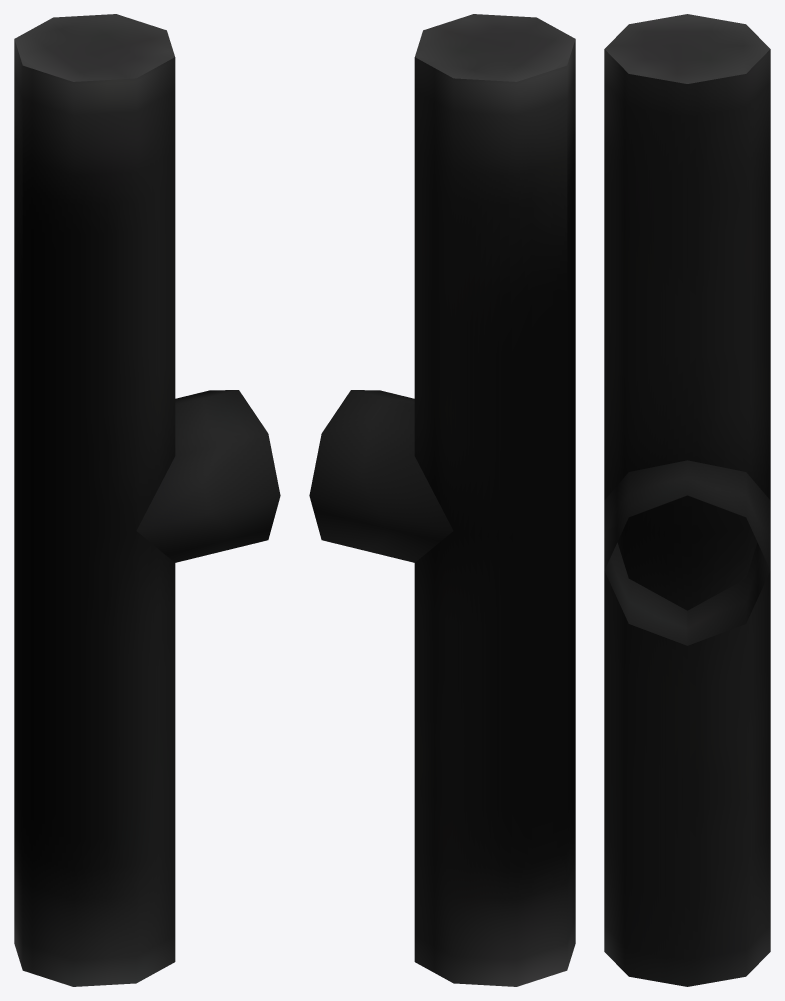
File: ye8_rod.obj
3 views of the same model, side by side, from view 1: azimuth 30°, elevation 25°; view 2: azimuth 150°, elevation 25°; view 3: azimuth 270°, elevation 25° (orthographic).
Parts seen in each view (by area): view 1: 1; view 2: 1; view 3: 1.
Part boxes in pixels (bbox=[...]): 1: bbox=[14, 14, 280, 986]; 1: bbox=[309, 14, 575, 986]; 1: bbox=[604, 14, 770, 986].
Bounding box in the file's own units: 0.0375 × 0.15 × 0.025.
Materials: 1 (1 with a texture image).
